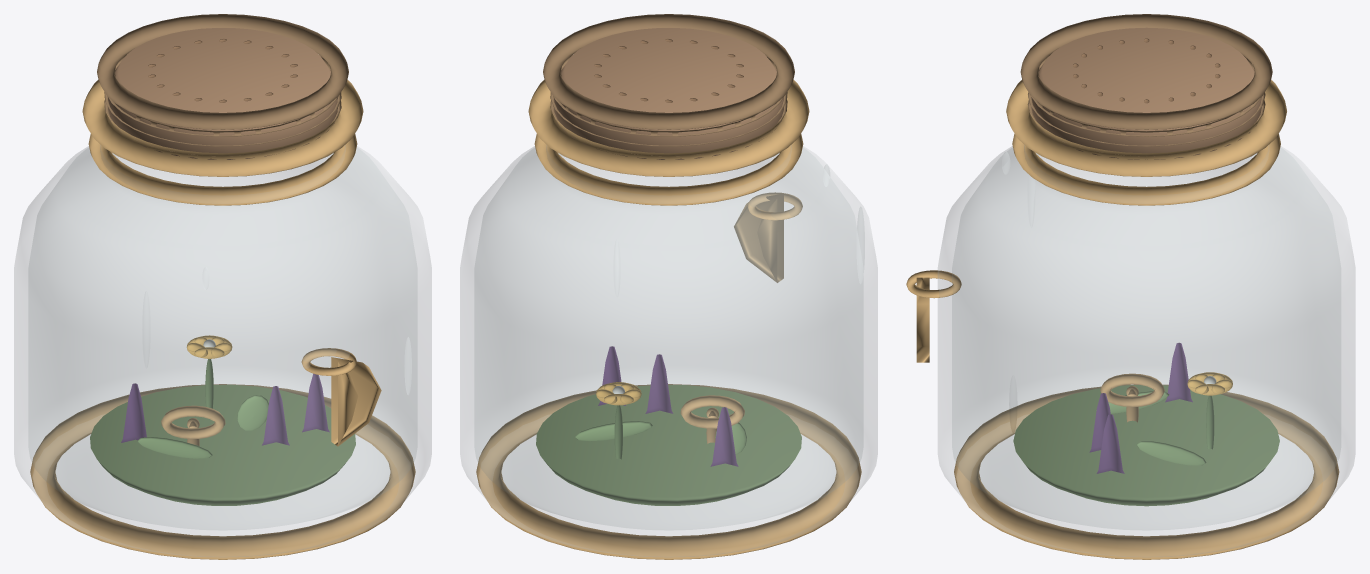
Rendered from jar_02_wonderland.glb.
The picture shows the model from 3 angles, left to right: view 1: azimuth 30°, elevation 25°; view 2: azimuth 150°, elevation 25°; view 3: azimuth 270°, elevation 25°; orthographic projection.
Parts seen in each view (by area): view 1: Outer glass wall, Inner glass wall, Soft moss and earth bed, Natural cork stopper, Foot brass ring, Stopper top binding, Stopper retaining ring, Neck collar, Unlabeled moon charm, Hand-cut quartz point (×3), Pressed botanical leaf (×2), Cork grain (×2) (+2 smaller); view 2: Outer glass wall, Inner glass wall, Soft moss and earth bed, Natural cork stopper, Foot brass ring, Stopper top binding, Stopper retaining ring, Neck collar, Unlabeled moon charm, Hand-cut quartz point (×3), Cork grain (×2), Curio key bow (+2 smaller); view 3: Outer glass wall, Inner glass wall, Soft moss and earth bed, Natural cork stopper, Foot brass ring, Stopper top binding, Stopper retaining ring, Neck collar, Hand-cut quartz point (×3), Curio key bow, Unlabeled moon charm, Cork grain (+2 smaller).
Boxes of the visible parts, bbox=[...] form: Outer glass wall: bbox=[14, 145, 431, 557]; Inner glass wall: bbox=[29, 148, 416, 529]; Soft moss and earth bed: bbox=[90, 384, 355, 505]; Natural cork stopper: bbox=[108, 28, 337, 159]; Foot brass ring: bbox=[30, 384, 415, 559]; Stopper top binding: bbox=[97, 14, 348, 129]; Stopper retaining ring: bbox=[82, 80, 363, 176]; Neck collar: bbox=[88, 134, 357, 205]; Unlabeled moon charm: bbox=[331, 357, 381, 446]; Hand-cut quartz point (×3): bbox=[121, 373, 329, 445]; Pressed botanical leaf (×2): bbox=[137, 395, 268, 458]; Cork grain (×2): bbox=[104, 55, 341, 146]; Outer glass wall: bbox=[460, 145, 877, 557]; Inner glass wall: bbox=[475, 148, 862, 529]; Soft moss and earth bed: bbox=[536, 385, 801, 505]; Natural cork stopper: bbox=[554, 28, 783, 159]; Foot brass ring: bbox=[476, 384, 861, 559]; Stopper top binding: bbox=[543, 14, 794, 129]; Stopper retaining ring: bbox=[528, 80, 809, 176]; Neck collar: bbox=[534, 134, 803, 205]; Unlabeled moon charm: bbox=[734, 193, 783, 282]; Hand-cut quartz point (×3): bbox=[598, 346, 738, 466]; Cork grain (×2): bbox=[550, 55, 787, 146]; Curio key bow: bbox=[680, 395, 744, 428]; Outer glass wall: bbox=[938, 145, 1355, 557]; Inner glass wall: bbox=[952, 148, 1340, 529]; Soft moss and earth bed: bbox=[1013, 385, 1279, 506]; Natural cork stopper: bbox=[1031, 27, 1261, 159]; Foot brass ring: bbox=[954, 384, 1339, 559]; Stopper top binding: bbox=[1020, 14, 1272, 129]; Stopper retaining ring: bbox=[1006, 80, 1286, 176]; Neck collar: bbox=[1012, 134, 1280, 205]; Hand-cut quartz point (×3): bbox=[1089, 342, 1192, 473]; Curio key bow: bbox=[1100, 373, 1164, 407]; Unlabeled moon charm: bbox=[916, 277, 929, 362]; Cork grain: bbox=[1030, 54, 1262, 136].
Size of the model in its own units: 1.18 by 1.33 by 1.27.
